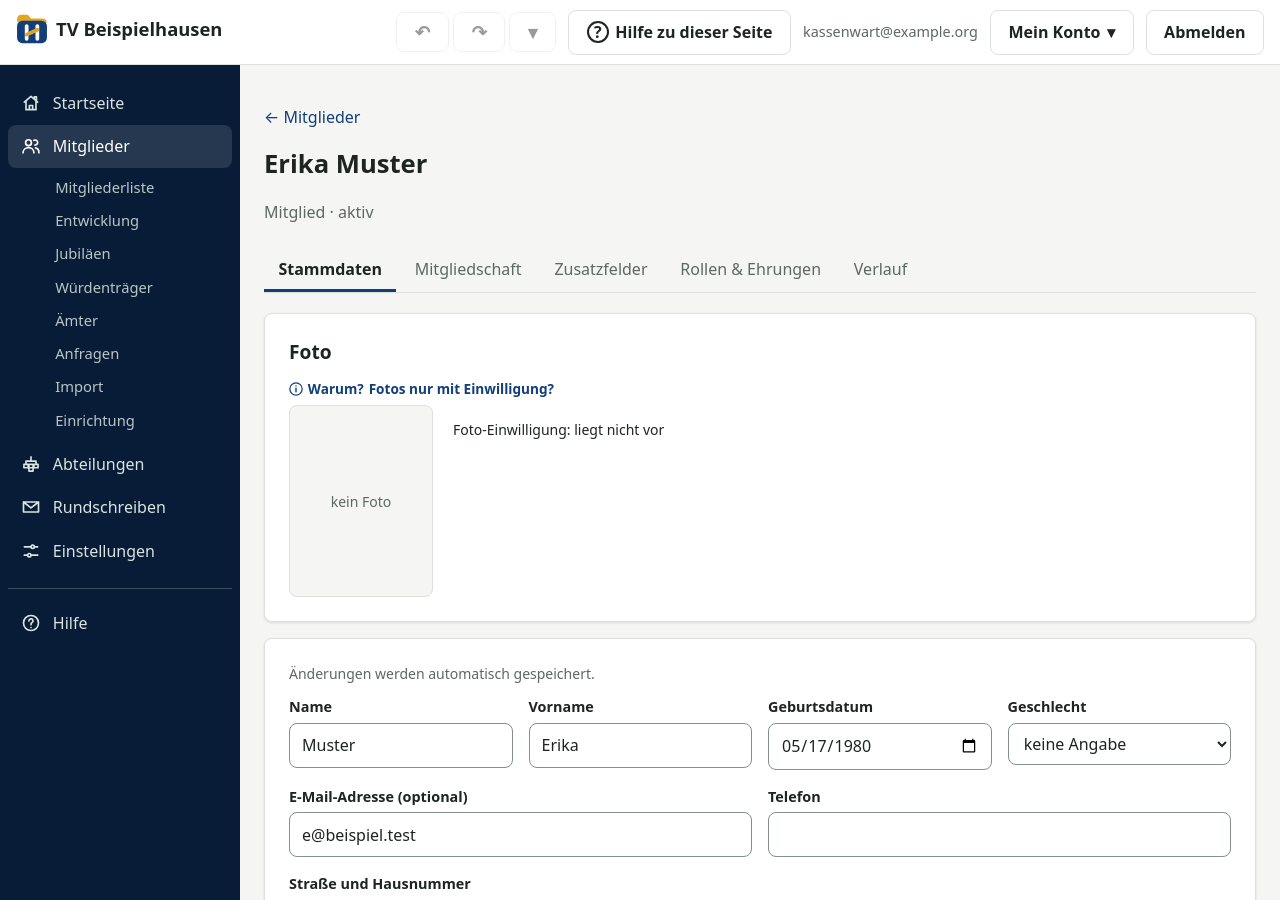
Test: Mitgliedsakte › nennt den Namen des Dachverbands nur einmal
The width and height of the screenshot is (1280, 900).
Click the link "Mitgliedschaft" at (468, 269), box [415,258,522,280]
(page scrolled)
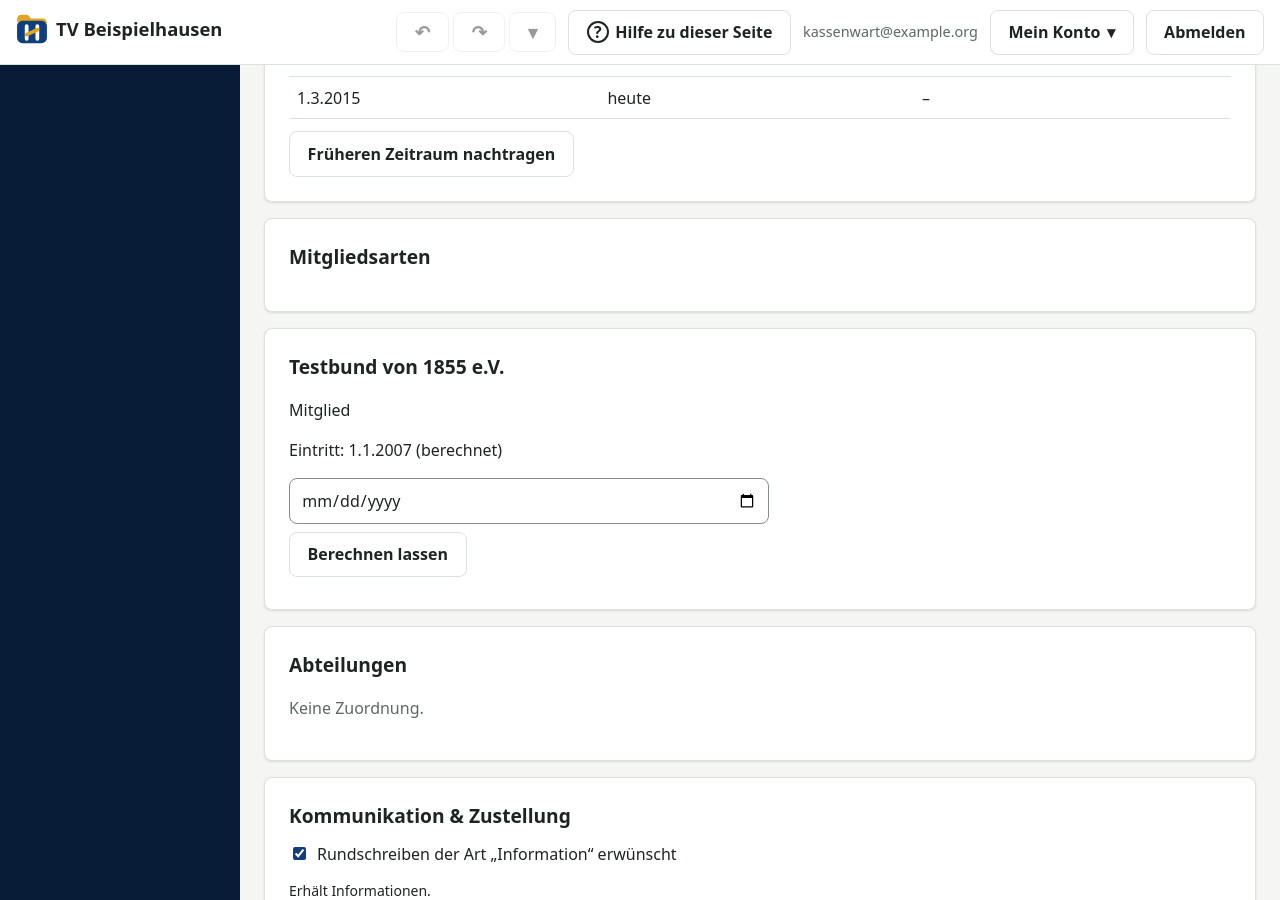
Result: the heading "Testbund von 1855 e.V." is shown at [289,353,504,380]
Result: the text "Mitglied" is shown at [289,399,350,421]
Result: the text "Eintritt: 1.1.2007 (berechnet)" is shown at [289,439,502,461]
